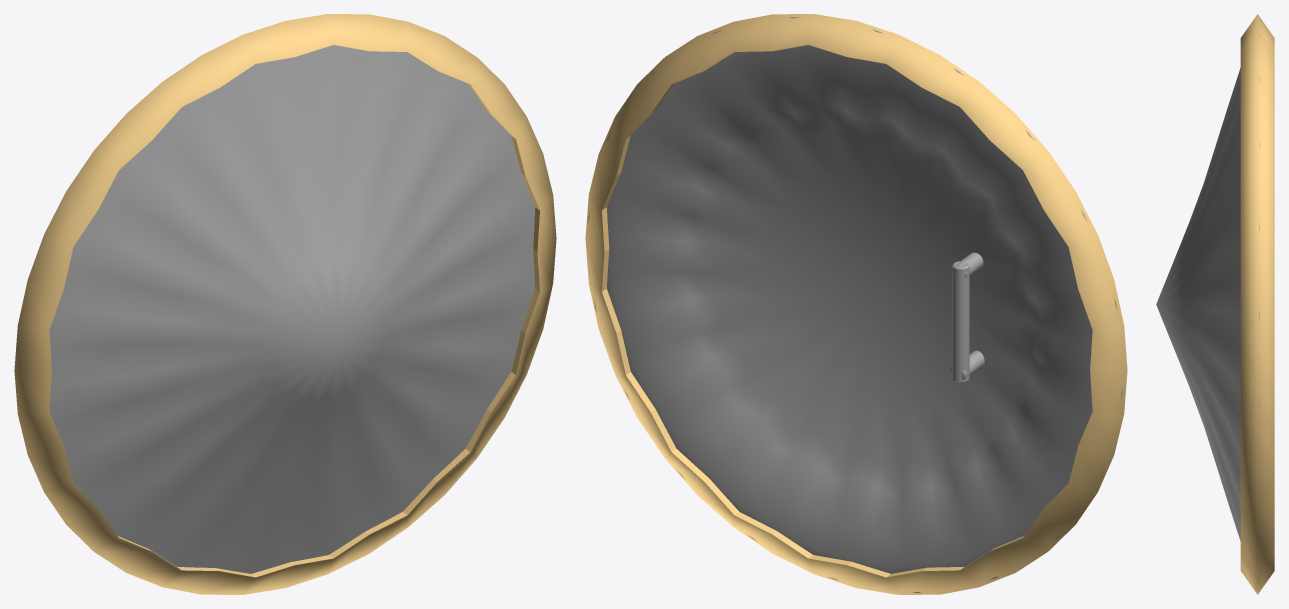
Rendered from S_Shield_Round.fbx.
3 renders of one model, left to right at view 1: azimuth 30°, elevation 25°; view 2: azimuth 150°, elevation 25°; view 3: azimuth 270°, elevation 25°, orthographic. The views are drawn at different scales.
Visible parts, largest first — view 1: pCylinder8; view 2: pCylinder8; view 3: pCylinder8.
Part boxes in pixels (box(x1,y1,x2,y2)): pCylinder8: box(14, 14, 556, 594); pCylinder8: box(585, 14, 1127, 594); pCylinder8: box(1156, 14, 1274, 594).
Bounding box in the file's own units: 108 × 108 × 21.98.
